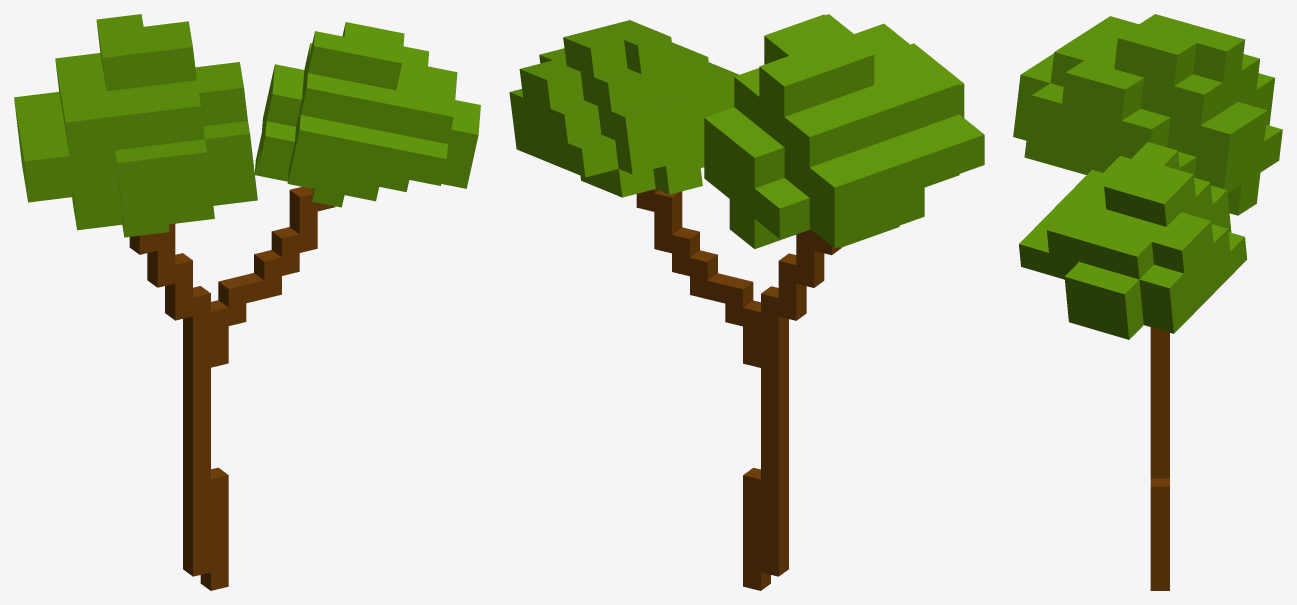
The model's file is Blockytree_03_green.glb.
3 views of the same model, side by side, from view 1: azimuth 30°, elevation 25°; view 2: azimuth 150°, elevation 25°; view 3: azimuth 270°, elevation 25° (orthographic). The views are drawn at different scales.
Parts seen in each view (by area): view 1: Blockytree_03_green_Wood_0; view 2: Blockytree_03_green_Wood_0; view 3: Blockytree_03_green_Wood_0.
Part boxes in pixels (x1,y1,x2,y2): Blockytree_03_green_Wood_0: (14, 14, 480, 590); Blockytree_03_green_Wood_0: (509, 14, 984, 590); Blockytree_03_green_Wood_0: (1013, 14, 1282, 590).
Size of the model in its own units: 8.47 by 10.04 by 4.64.
